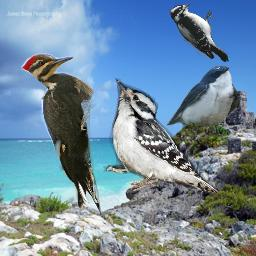Swallow: (166, 65, 240, 139)
Woodpecker: (103, 78, 218, 193), (21, 53, 102, 214), (170, 3, 229, 62)
